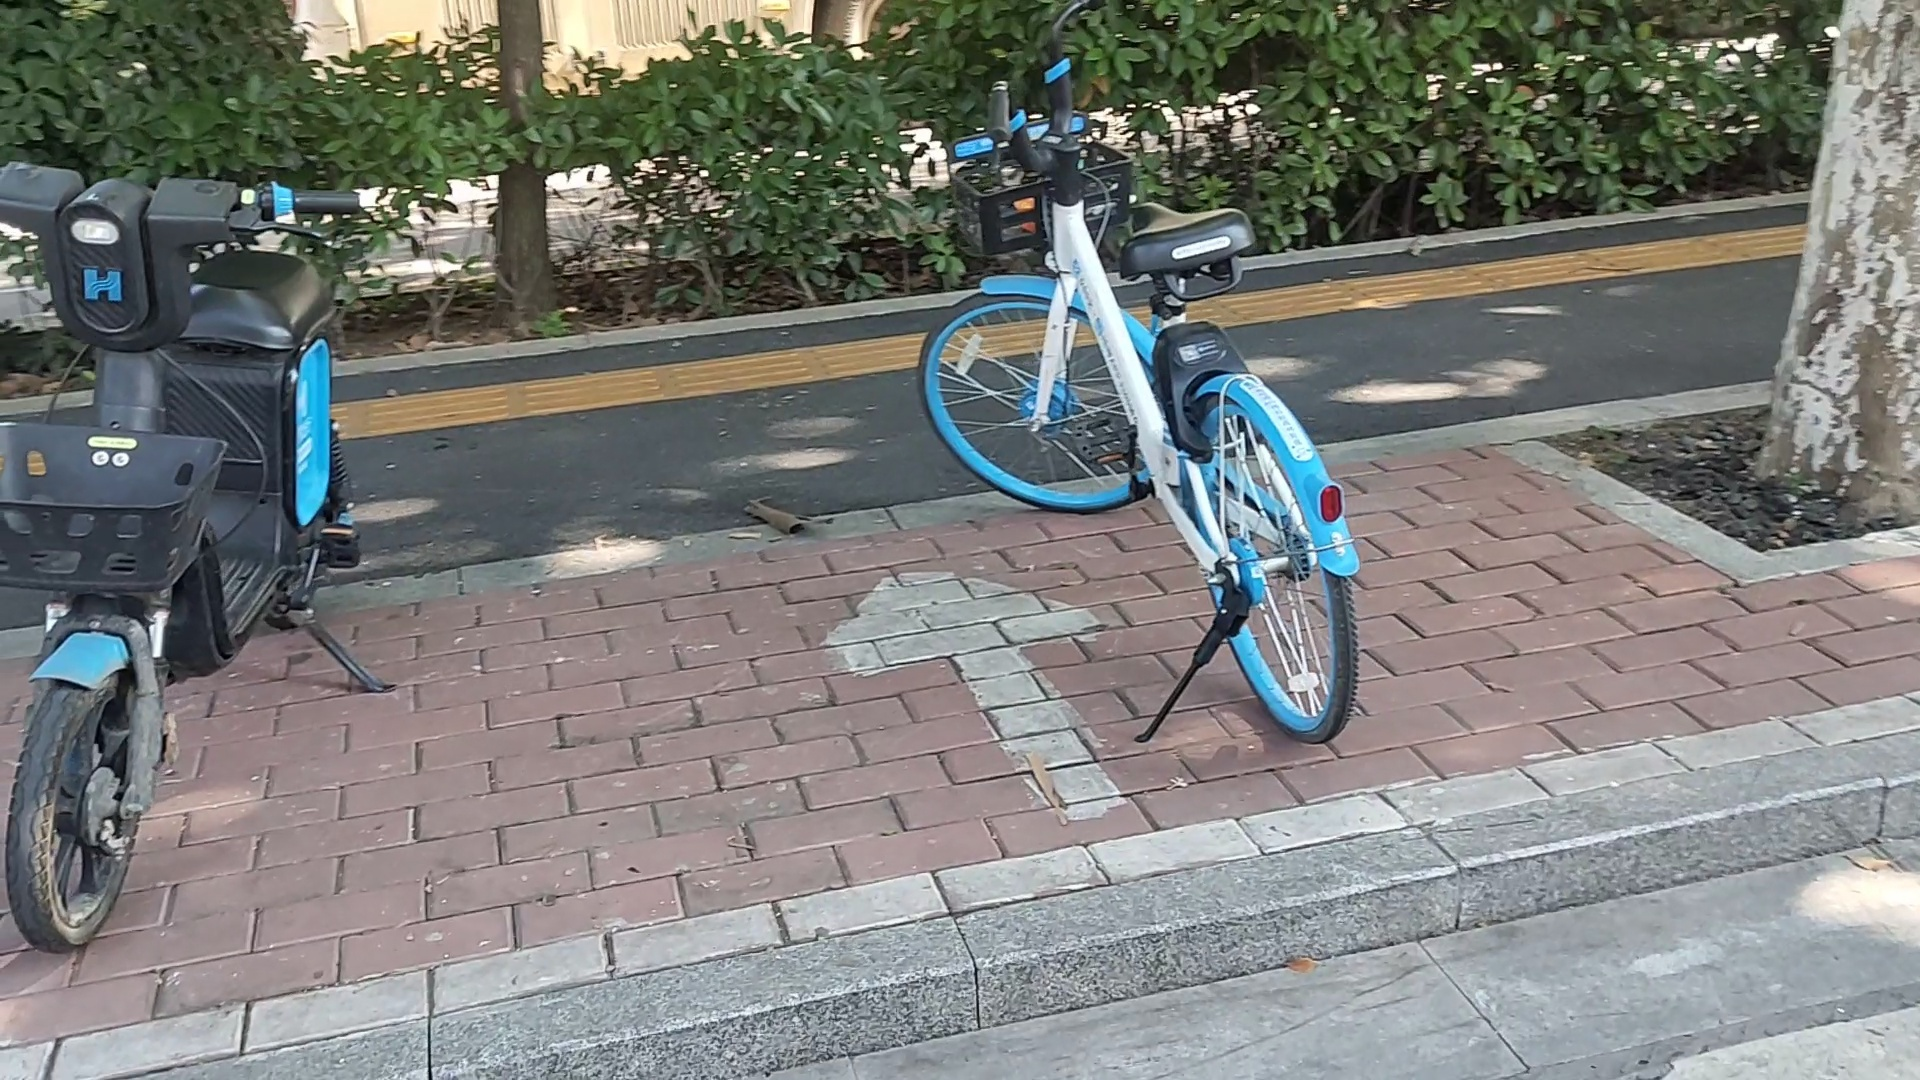non-vehicle: (0, 136, 434, 957), (915, 66, 1366, 756)
